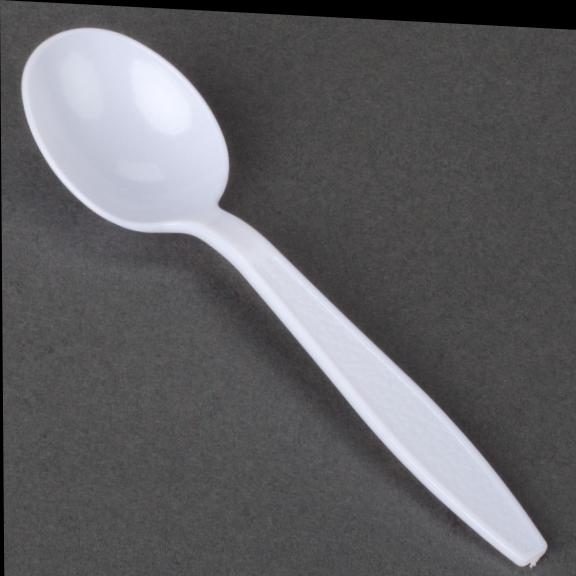Plastik: (23, 29, 547, 565)
